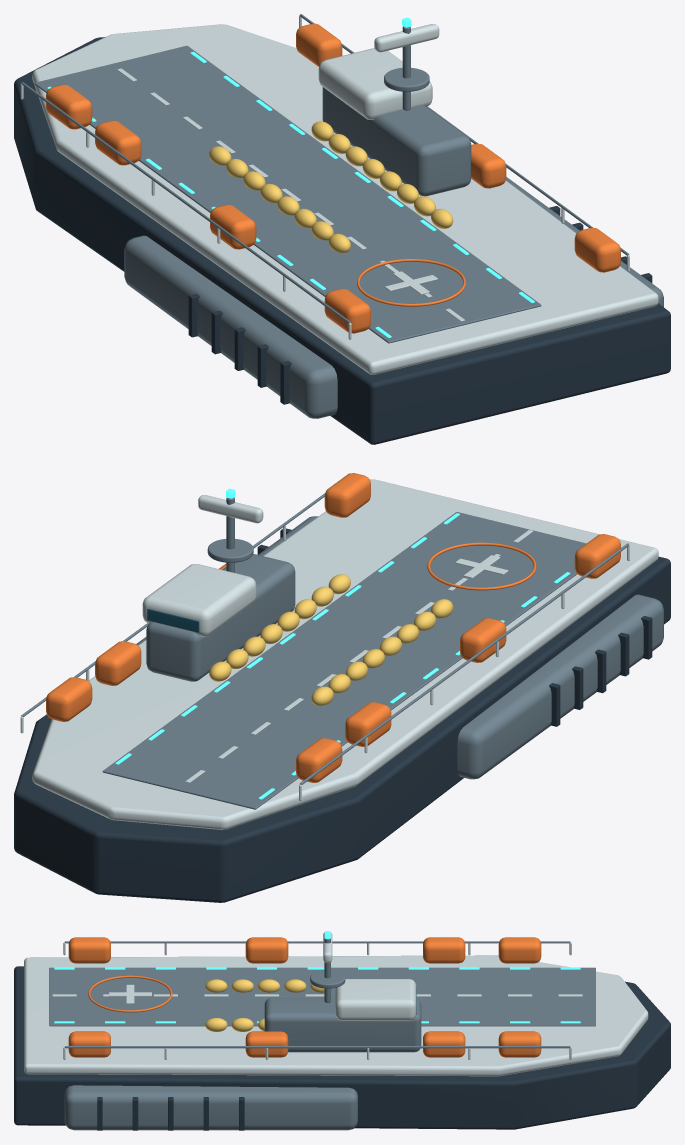
File: EvacCarrier.fbx
3 views of the same model, one above another, from view 1: azimuth 30°, elevation 25°; view 2: azimuth 150°, elevation 25°; view 3: azimuth 270°, elevation 25° (orthographic). The views are drawn at different scales.
Parts seen in each view (by area): view 1: Recessed runway.001, Beveled flight deck.001, Twin-keel rescue hull.001, Outer engine pod.002, Island command base.001, Bridge ceramic cap.001, Rescue pod.012, Rescue pod.008, Rescue pod.010, Rescue pod.011, Rescue pod.009, Rescue pod.015 (+6 smaller); view 2: Recessed runway.001, Beveled flight deck.001, Twin-keel rescue hull.001, Outer engine pod.002, Island command base.001, Bridge ceramic cap.001, Rescue pod.012, Rescue pod.014, Rescue pod.015, Rescue pod.008, Rescue pod.011, Rescue pod.010 (+6 smaller); view 3: Beveled flight deck.001, Twin-keel rescue hull.001, Recessed runway.001, Outer engine pod.003, Island command base.001, Bridge ceramic cap.001, Deck guard rail.003, Rescue pod.011, Rescue pod.009, Rescue pod.010, Rescue pod.008, Rescue pod.015 (+6 smaller).
Boxes of the visible parts, x1,y1,x2,y2 form: Recessed runway.001: (34,45,541,343); Beveled flight deck.001: (32,24,658,374); Twin-keel rescue hull.001: (14,37,670,444); Outer engine pod.002: (124,235,337,418); Island command base.001: (322,87,471,196); Bridge ceramic cap.001: (318,48,432,119); Rescue pod.012: (574,227,620,272); Rescue pod.008: (324,288,370,333); Rescue pod.010: (95,120,141,165); Rescue pod.011: (46,84,92,129); Rescue pod.009: (210,204,256,249); Rescue pod.015: (296,23,342,66); Recessed runway.001: (102,512,586,809); Beveled flight deck.001: (32,479,658,829); Twin-keel rescue hull.001: (14,556,670,902); Outer engine pod.002: (457,594,663,779); Island command base.001: (146,554,295,681); Bridge ceramic cap.001: (142,564,256,636); Rescue pod.012: (324,473,370,517); Rescue pod.014: (95,641,141,685); Rescue pod.015: (46,677,92,721); Rescue pod.008: (574,534,620,578); Rescue pod.011: (296,738,342,782); Rescue pod.010: (345,702,391,746); Beveled flight deck.001: (24,955,648,1076); Twin-keel rescue hull.001: (14,966,670,1129); Recessed runway.001: (49,967,595,1026); Outer engine pod.003: (64,1085,357,1130); Island command base.001: (264,998,421,1052); Bridge ceramic cap.001: (335,979,416,1020); Deck guard rail.003: (64,1046,570,1048); Rescue pod.011: (498,937,541,963); Rescue pod.009: (245,937,288,963); Rescue pod.010: (423,937,465,963); Rescue pod.008: (68,937,110,963); Rescue pod.015: (498,1031,541,1057).
Size of the model in its own units: 649 by 372 by 1298.
